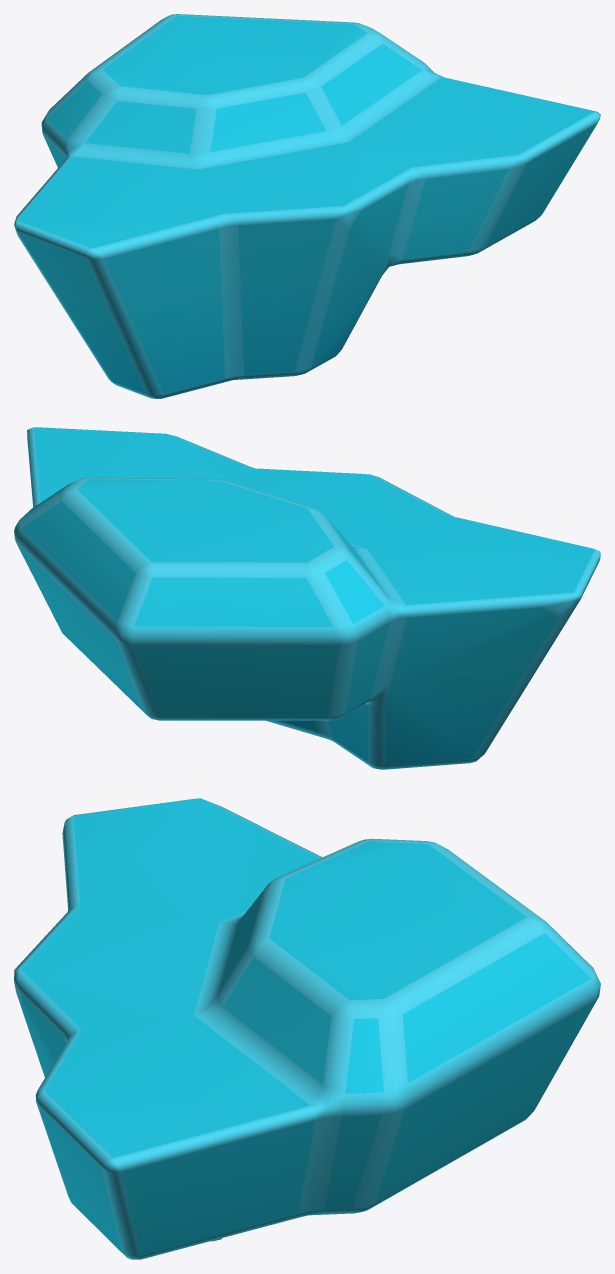
File: ice_010.fbx
3 renders of one model, top to bottom at view 1: azimuth 30°, elevation 25°; view 2: azimuth 150°, elevation 25°; view 3: azimuth 270°, elevation 25°, orthographic. The views are drawn at different scales.
Visible parts, largest first — view 1: ice_010; view 2: ice_010; view 3: ice_010.
Part boxes in pixels (x1,y1,x2,y2): ice_010: (14,14,600,398); ice_010: (14,427,600,769); ice_010: (14,798,600,1259).
Size of the model in its own units: 574 by 389 by 233.
